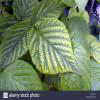Raspberry leaf: (28, 19, 79, 74)
